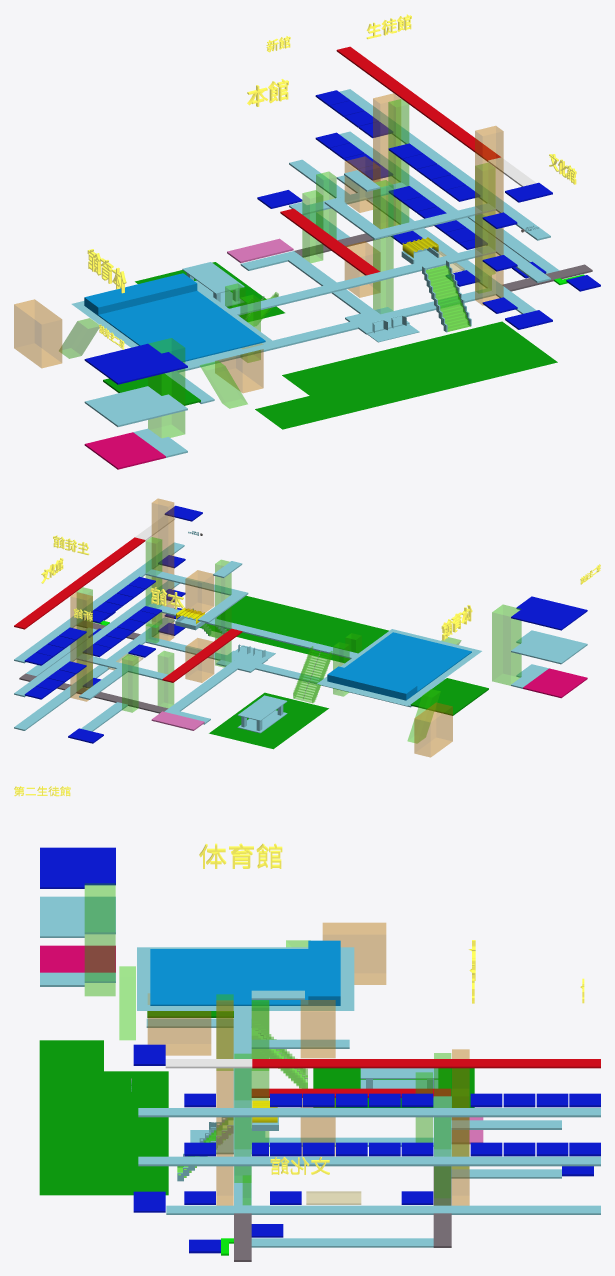
The model's file is schoolmap3.glb.
The picture shows the model from 3 angles, top to bottom: view 1: azimuth 30°, elevation 25°; view 2: azimuth 150°, elevation 25°; view 3: azimuth 270°, elevation 25°; orthographic projection. The views are drawn at different scales.
Parts seen in each view (by area): view 1: 平面.002, 体育館2Fアリーナ, 生徒館東側WL, 生徒館西側WL, 生徒館4F廊下, 生徒館東側WL.002, 生徒館3F廊下, 生徒館ー本館ー体育館2F東側通路, 生徒館2F廊下, 悠久館, 第二生徒館2F, 第二生徒館iF (+33 smaller); view 2: 体育館2Fアリーナ, 平面.002, 平面.003, 生徒館東側WL, 立方体.014, 生徒館西側WL, 生徒館4F廊下, 生徒館東側WL.002, 生徒館1F廊下, 保健室.001, 生徒館3F廊下, 立方体.017 (+34 smaller); view 3: 平面.002, 体育館2Fアリーナ, 生徒館2F廊下, 生徒館3F廊下, 生徒館4F廊下, 生徒館1F廊下, 立方体.014, 生徒館東側WL, 立方体.017, 第二生徒館2F, 悠久館, 第二生徒館iF (+33 smaller).
Part boxes in pixels (x1,y1,x2,y2): 平面.002: (255,321,557,429); 体育館2Fアリーナ: (84,273,265,361); 生徒館東側WL: (475,126,503,305); 生徒館西側WL: (373,93,400,228); 生徒館4F廊下: (336,46,536,186); 生徒館東側WL.002: (14,299,61,367); 生徒館3F廊下: (339,89,550,240); 生徒館ー本館ー体育館2F東側通路: (229,246,495,315); 生徒館2F廊下: (339,131,550,282); 悠久館: (84,343,187,384); 第二生徒館2F: (84,386,187,426); 第二生徒館iF: (84,428,187,469); 体育館2Fアリーナ: (327,632,471,700); 平面.002: (199,595,388,663); 平面.003: (209,692,328,749); 生徒館東側WL: (152,498,173,640); 立方体.014: (492,604,521,685); 生徒館西側WL: (70,592,92,701); 生徒館4F廊下: (14,515,175,629); 生徒館東側WL.002: (414,702,452,757); 生徒館1F廊下: (14,617,174,730); 保健室.001: (410,678,488,715); 生徒館3F廊下: (14,542,184,663); 立方体.017: (317,629,481,705); 平面.002: (39,1040,168,1195); 体育館2Fアリーナ: (150,940,340,1005); 生徒館2F廊下: (138,1156,600,1166); 生徒館3F廊下: (138,1108,600,1117); 生徒館4F廊下: (165,1059,600,1068); 生徒館1F廊下: (166,1205,600,1214); 立方体.014: (84,883,115,996); 生徒館東側WL: (216,1000,233,1205); 立方体.017: (137,947,354,1010); 第二生徒館2F: (40,896,115,937); 悠久館: (40,847,115,888); 第二生徒館iF: (40,945,115,986).
Size of the model in its own units: 13.92 by 4.76 by 10.87.
Materials: 17 (1 with a texture image).
